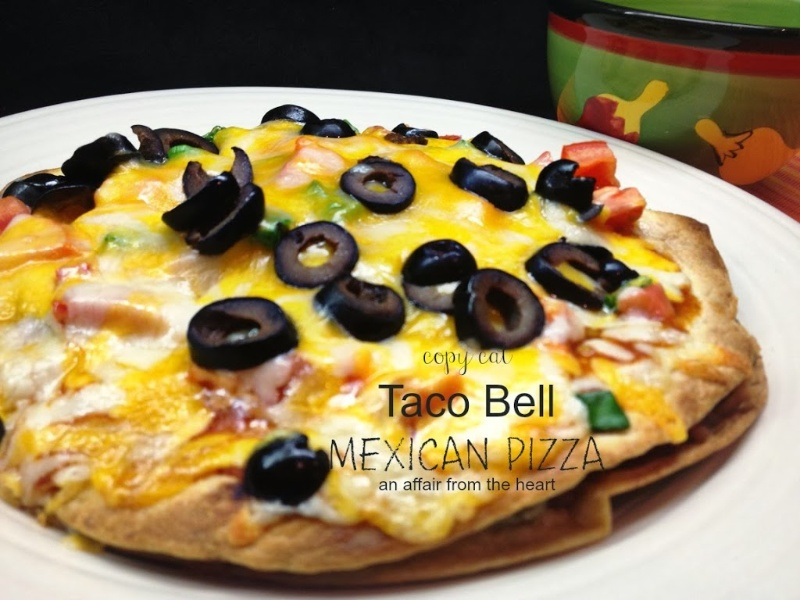olive noir: (169, 160, 264, 251), (522, 231, 630, 310), (182, 289, 299, 360), (240, 429, 335, 505), (456, 271, 545, 346), (272, 215, 366, 283), (320, 276, 412, 341), (453, 153, 534, 218), (342, 148, 415, 218), (68, 132, 123, 192), (408, 236, 469, 287)
